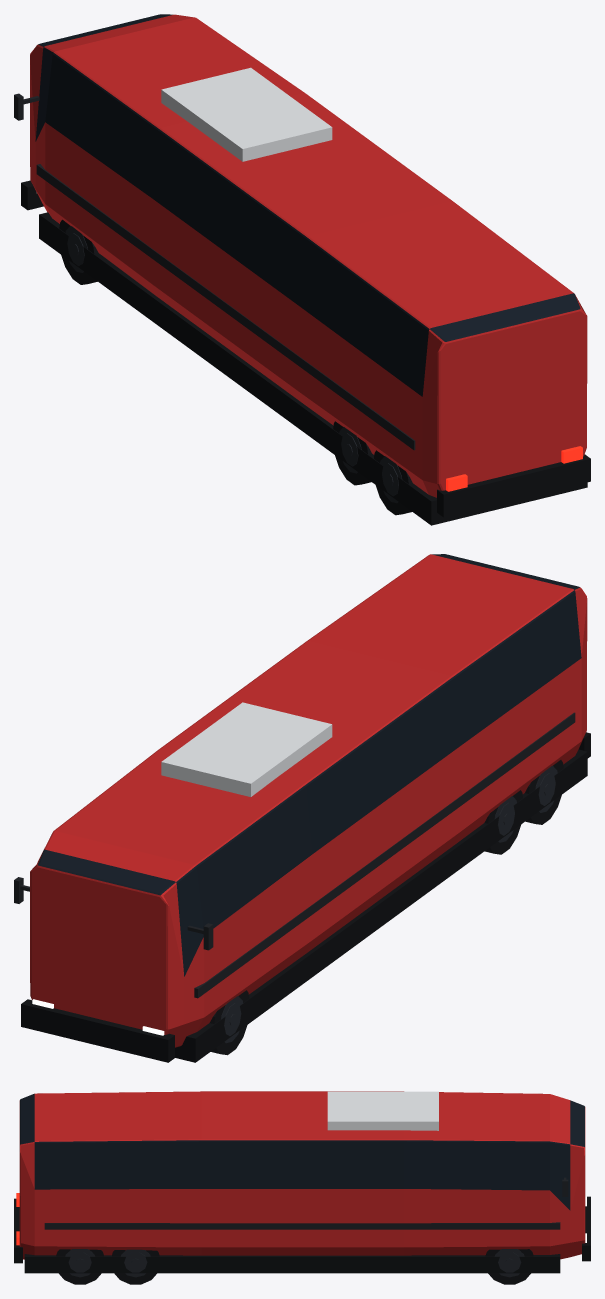
File: traffic_bus.glb
3 renders of one model, top to bottom at view 1: azimuth 30°, elevation 25°; view 2: azimuth 150°, elevation 25°; view 3: azimuth 270°, elevation 25°, orthographic. The views are drawn at different scales.
Parts seen in each view (by area): view 1: Body, Wheel_FL, Wheel_RL, Wheel_ML; view 2: Body, Wheel_FL, Wheel_RL, Wheel_ML; view 3: Body, Wheel_FR, Wheel_RR, Wheel_MR.
Boxes of the visible parts, <box> form: Body: <box>14,14,590,525</box>; Wheel_FL: <box>59,219,98,284</box>; Wheel_RL: <box>374,450,412,515</box>; Wheel_ML: <box>333,421,371,485</box>; Body: <box>14,554,590,1062</box>; Wheel_FL: <box>209,990,249,1055</box>; Wheel_RL: <box>525,760,563,824</box>; Wheel_ML: <box>484,790,522,854</box>; Body: <box>14,1091,590,1273</box>; Wheel_FR: <box>485,1249,533,1284</box>; Wheel_RR: <box>56,1249,103,1284</box>; Wheel_MR: <box>112,1249,159,1284</box>.
Size of the model in its own units: 3.04 by 3.32 by 11.42.
